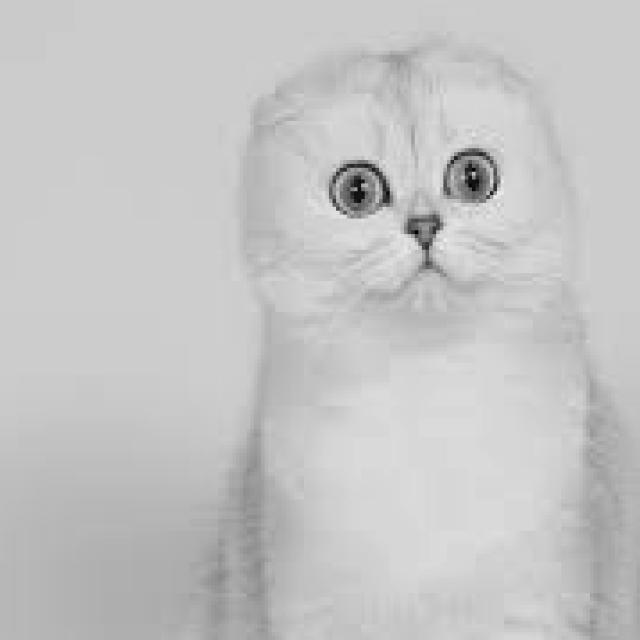scootish: (233, 31, 569, 372)
